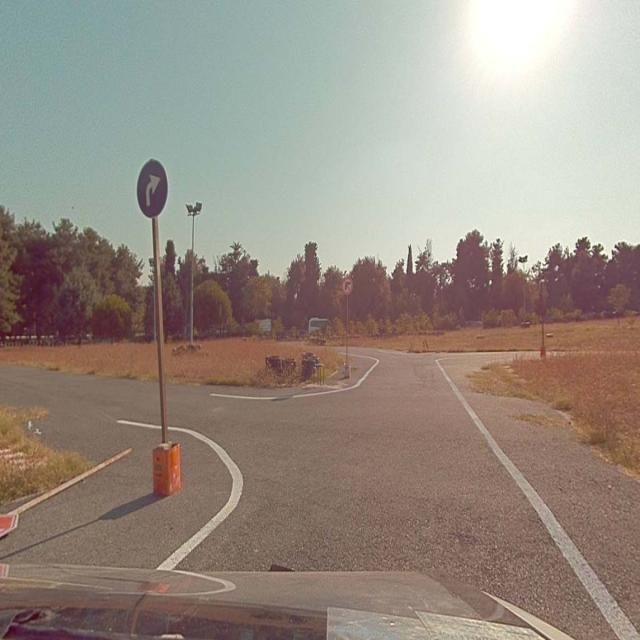sag: (137, 158, 169, 218)
sagadonulmez: (342, 277, 352, 295)
